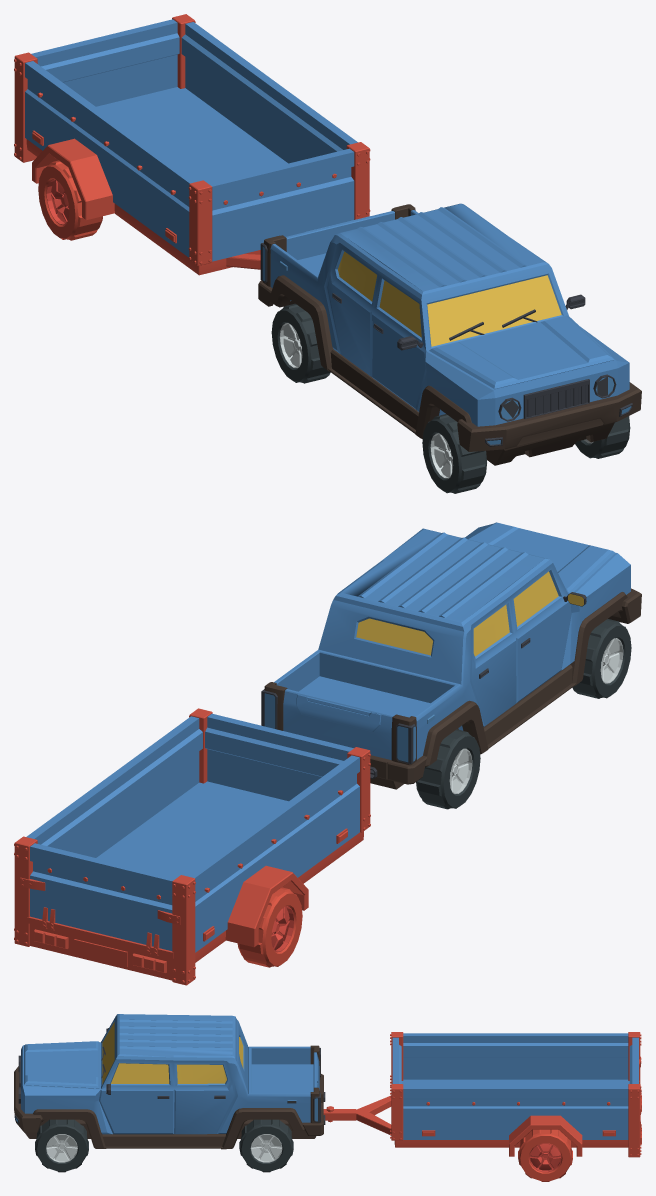
File: car_02.gltf
3 views of the same model, one above another, from view 1: azimuth 30°, elevation 25°; view 2: azimuth 150°, elevation 25°; view 3: azimuth 270°, elevation 25° (orthographic). The views are drawn at different scales.
Parts seen in each view (by area): view 1: body, wheel_17, wheel_44, wheel_32; view 2: body, wheel_17, wheel_44, wheel_32; view 3: body, wheel_7, wheel_50, wheel_38.
Boxes of the visible parts, left/top/right/bottom form: body: left=14, top=14, right=641, bottom=493; wheel_17: left=38, top=166, right=75, bottom=238; wheel_44: left=271, top=310, right=308, bottom=381; wheel_32: left=422, top=421, right=458, bottom=491; body: left=14, top=522, right=641, bottom=985; wheel_17: left=265, top=893, right=302, bottom=965; wheel_44: left=443, top=736, right=480, bottom=807; wheel_32: left=594, top=625, right=631, bottom=696; body: left=14, top=1014, right=641, bottom=1181; wheel_7: left=520, top=1136, right=570, bottom=1180; wheel_50: left=241, top=1126, right=291, bottom=1171; wheel_38: left=37, top=1126, right=86, bottom=1171.
Size of the model in its own units: 2.91 by 2.03 by 10.27.
1 material, 1 textured.
